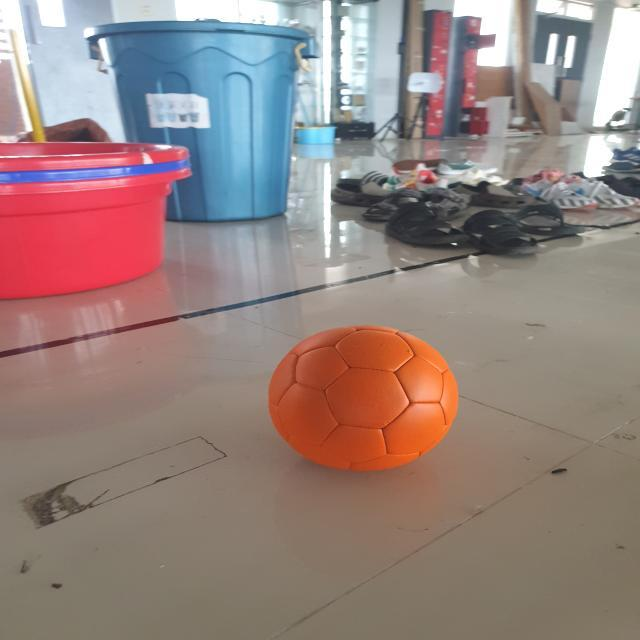bola: (258, 318, 467, 475)
